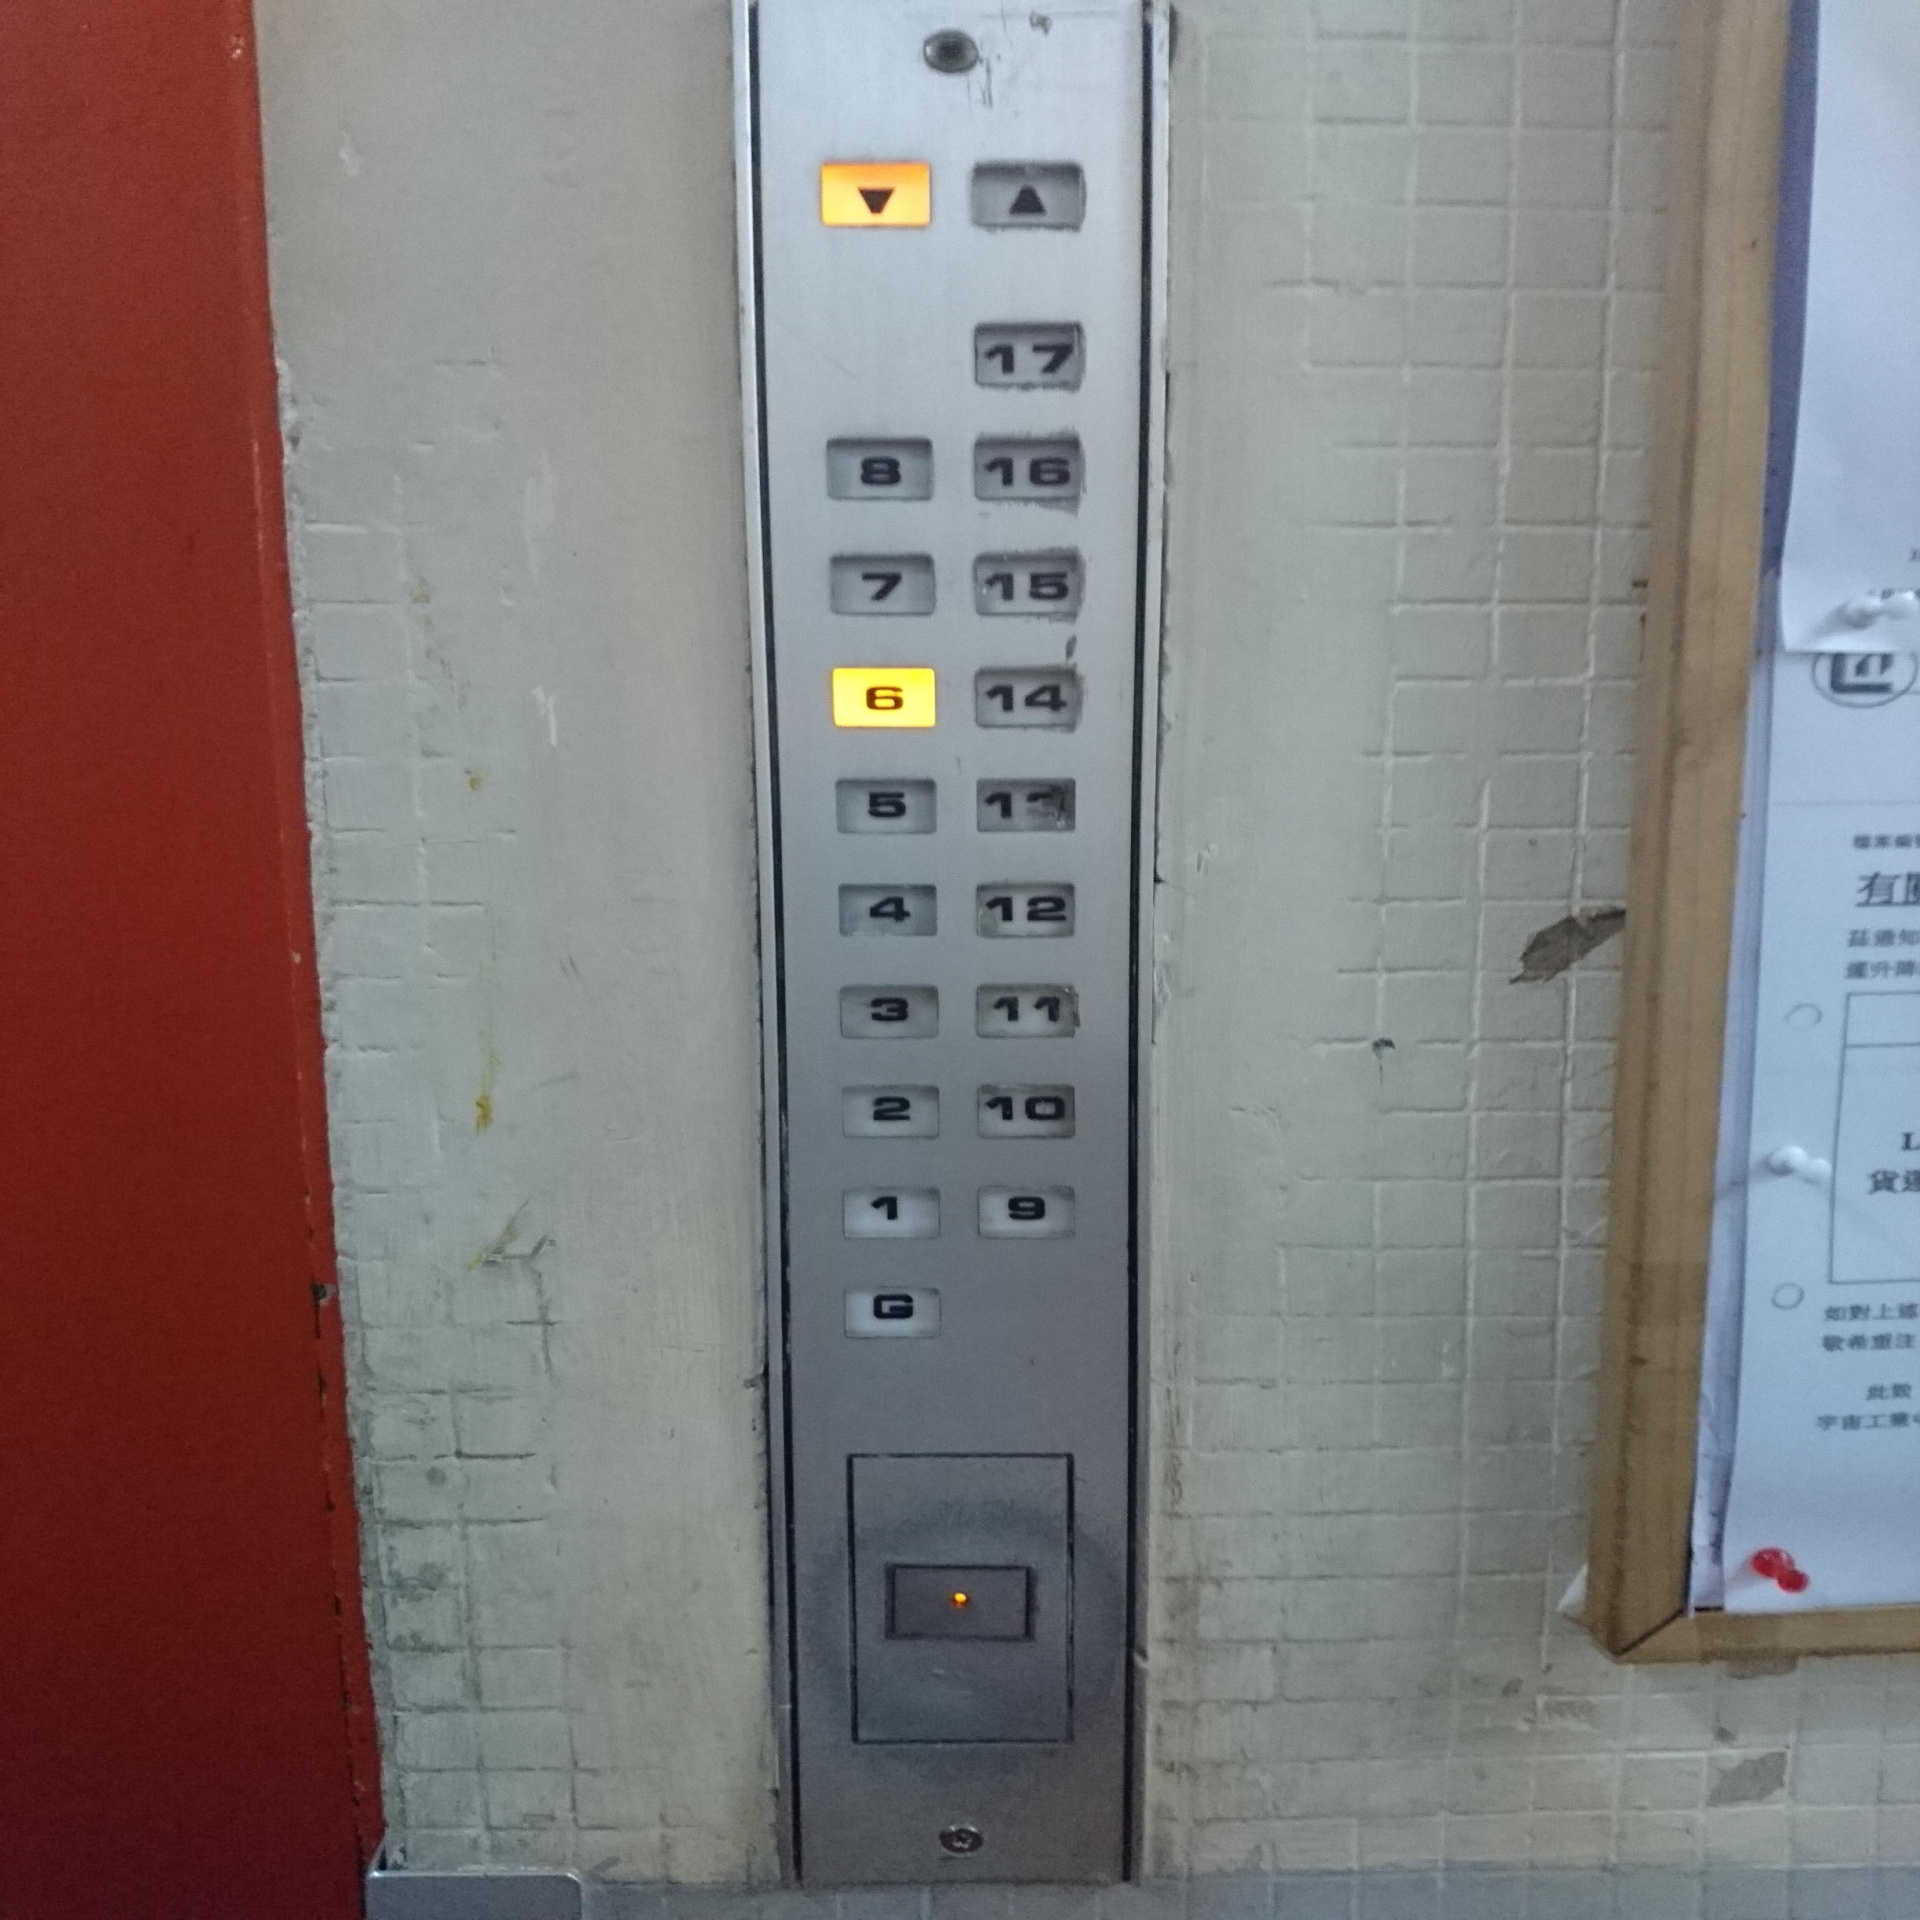1: (839, 1180, 944, 1245)
10: (972, 1081, 1080, 1145)
11: (972, 979, 1085, 1043)
12: (972, 877, 1080, 944)
13: (971, 772, 1080, 839)
14: (972, 663, 1083, 733)
15: (969, 547, 1092, 624)
16: (971, 429, 1087, 506)
17: (969, 318, 1088, 394)
2: (837, 1080, 944, 1145)
3: (833, 981, 944, 1043)
4: (833, 879, 942, 944)
5: (830, 772, 942, 839)
6: (828, 663, 941, 733)
7: (825, 547, 941, 624)
8: (819, 429, 937, 508)
9: (972, 1180, 1081, 1245)
G: (839, 1282, 948, 1343)
down: (816, 156, 937, 234)
empty: (883, 1558, 1037, 1646)
up: (967, 156, 1094, 234)
